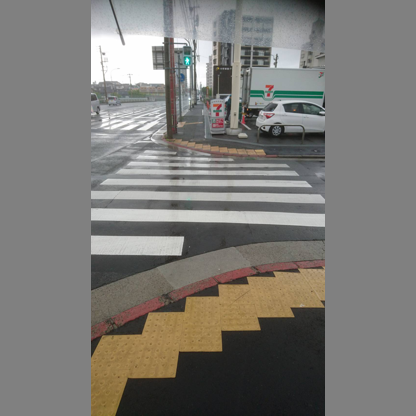brailleblock: (102, 334, 176, 376), (219, 283, 259, 331), (187, 296, 221, 349), (248, 276, 292, 315), (149, 311, 174, 375), (92, 356, 116, 413), (279, 270, 319, 304)
crosswalk: (90, 163, 290, 237)
signal: (182, 45, 192, 67)
